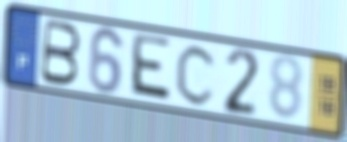2: (222, 46, 261, 118)
6: (86, 25, 126, 97)
8: (266, 53, 308, 125)
B: (38, 16, 83, 88)
C: (174, 42, 220, 108)
E: (127, 31, 173, 106)
